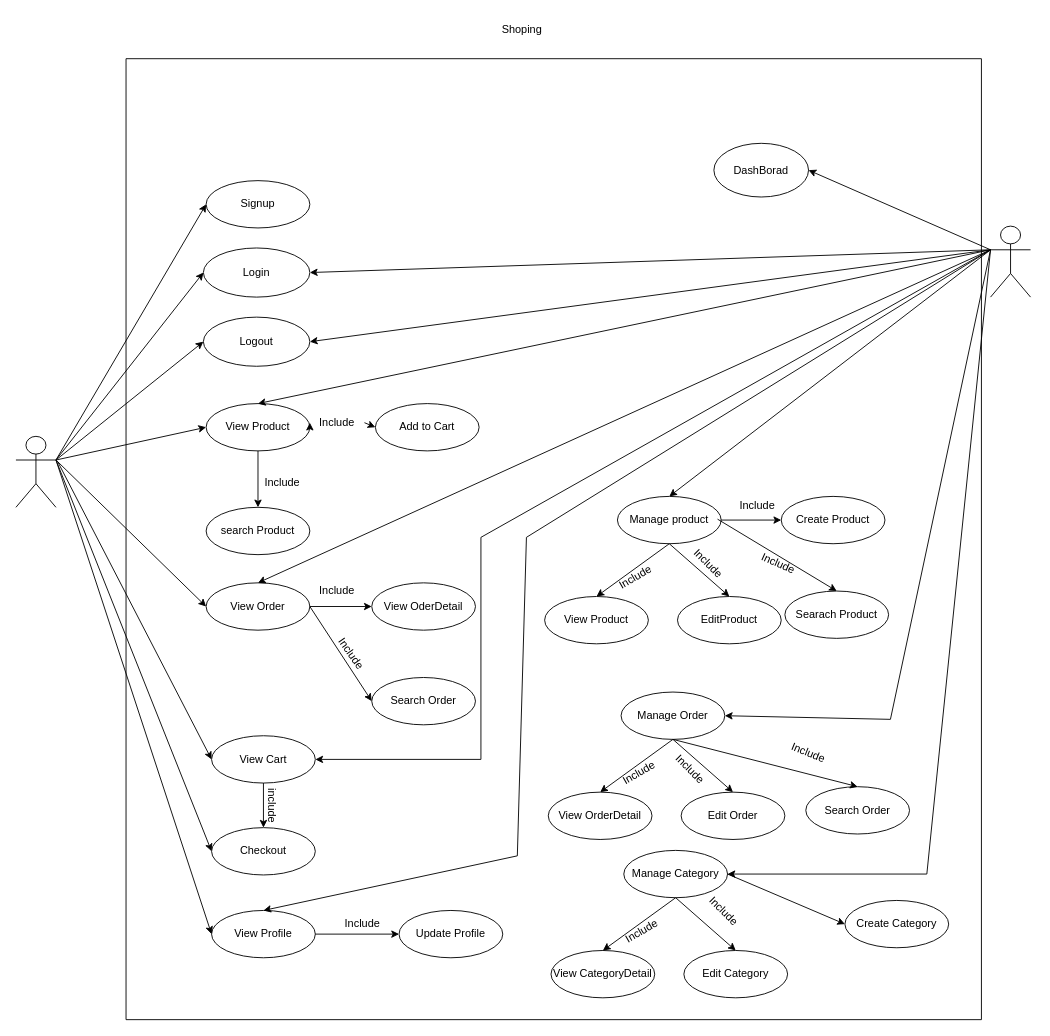
Image size: 1050x1036. Some labels were removed from this diagram. Each missing label, with the box of its shape:
Employee: (990, 225, 1031, 297)
Member: (15, 435, 56, 507)
